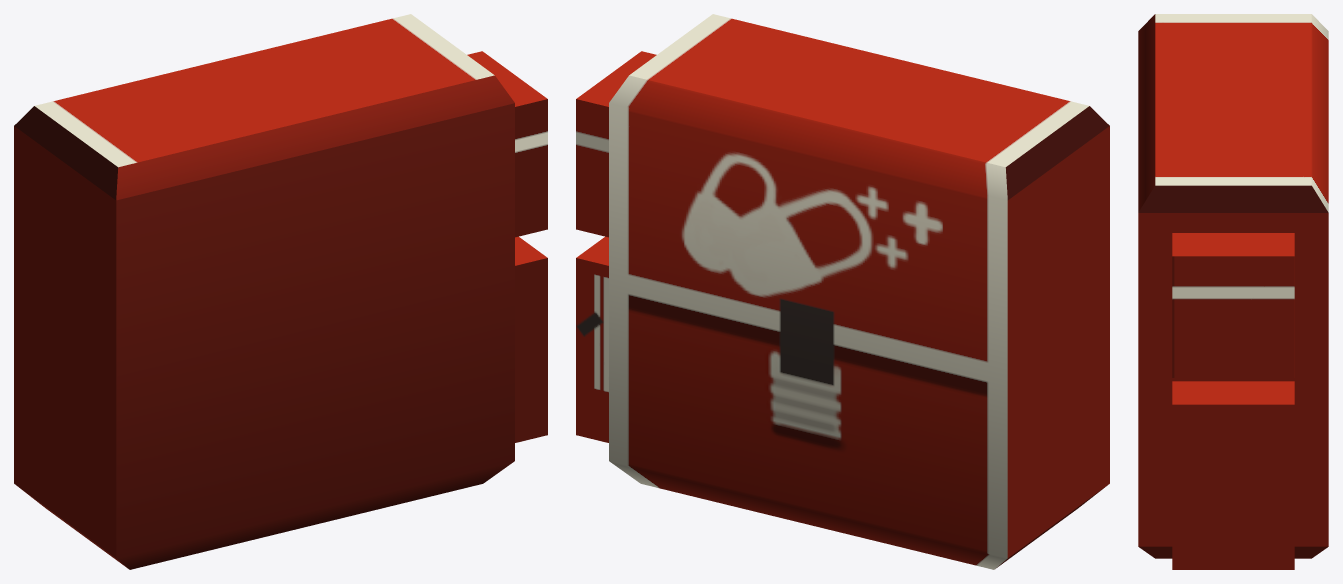
File: back_acc_22.FBX
3 renders of one model, left to right at view 1: azimuth 30°, elevation 25°; view 2: azimuth 150°, elevation 25°; view 3: azimuth 270°, elevation 25°, orthographic. The views are drawn at different scales.
Parts seen in each view (by area): view 1: back_acc_22; view 2: back_acc_22; view 3: back_acc_22.
Boxes of the visible parts, x1,y1,x2,y2 form: back_acc_22: (14,14,547,569); back_acc_22: (576,14,1109,569); back_acc_22: (1138,14,1328,569).
Bounding box in the file's own units: 13.44 × 11.57 × 5.28.
